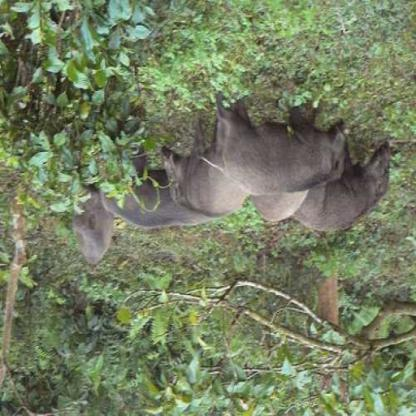boar: (191, 98, 356, 202), (287, 141, 415, 255), (97, 184, 210, 250), (169, 172, 245, 221), (252, 182, 304, 239), (74, 207, 109, 265)
